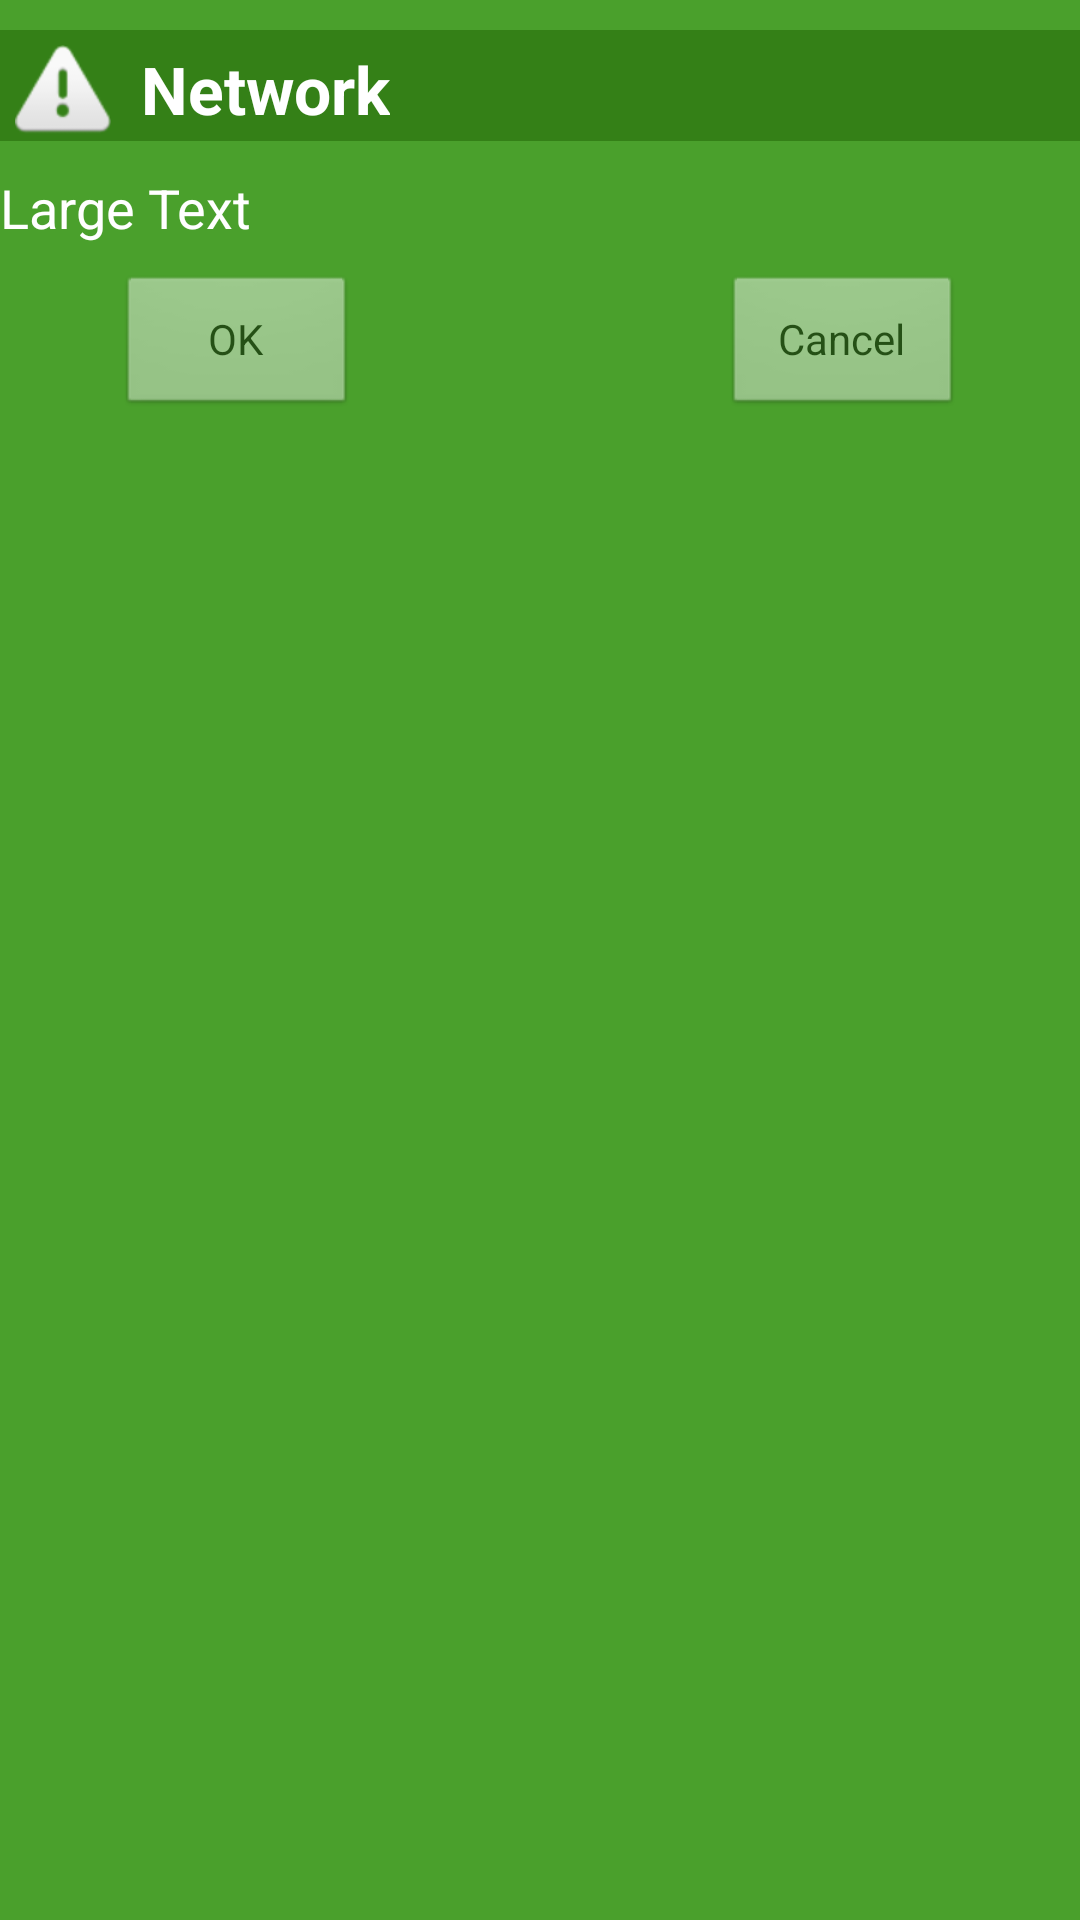

Named icons in this screenshot (1080 x 1920) and their bounding boxes, (x1, y1, x2, y2):
alert: (15, 45, 111, 132)
